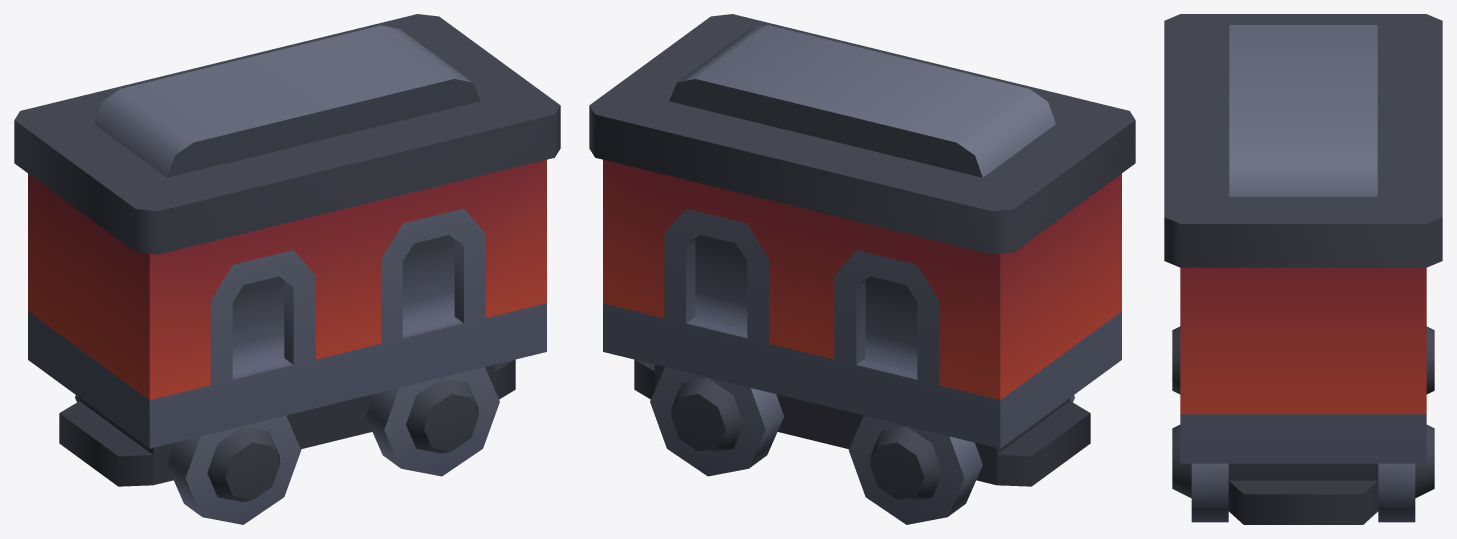
Rendered from train-wagon-short.glb.
3 renders of one model, left to right at view 1: azimuth 30°, elevation 25°; view 2: azimuth 150°, elevation 25°; view 3: azimuth 270°, elevation 25°, orthographic.
Visible parts, largest first — view 1: train-wagon-short; view 2: train-wagon-short; view 3: train-wagon-short.
Boxes of the visible parts, x1,y1,x2,y2 form: train-wagon-short: [14, 14, 560, 524]; train-wagon-short: [589, 14, 1135, 524]; train-wagon-short: [1164, 14, 1442, 524].
Bounding box in the file's own units: 0.3697 × 0.313 × 0.207.
